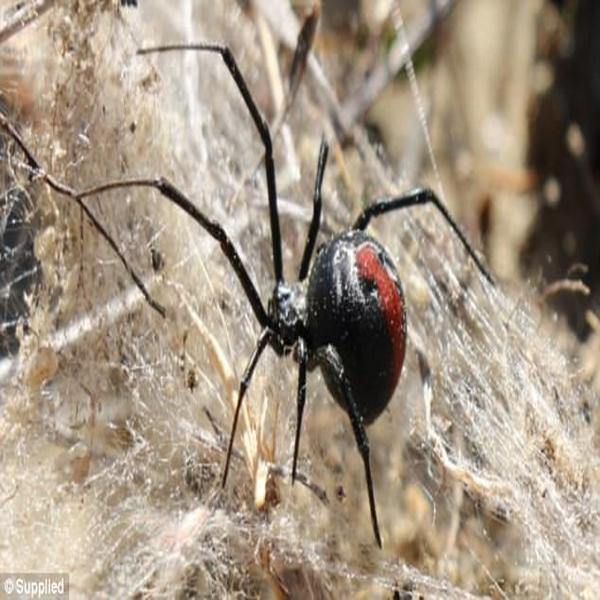Redback_Spider: (79, 41, 492, 549)
